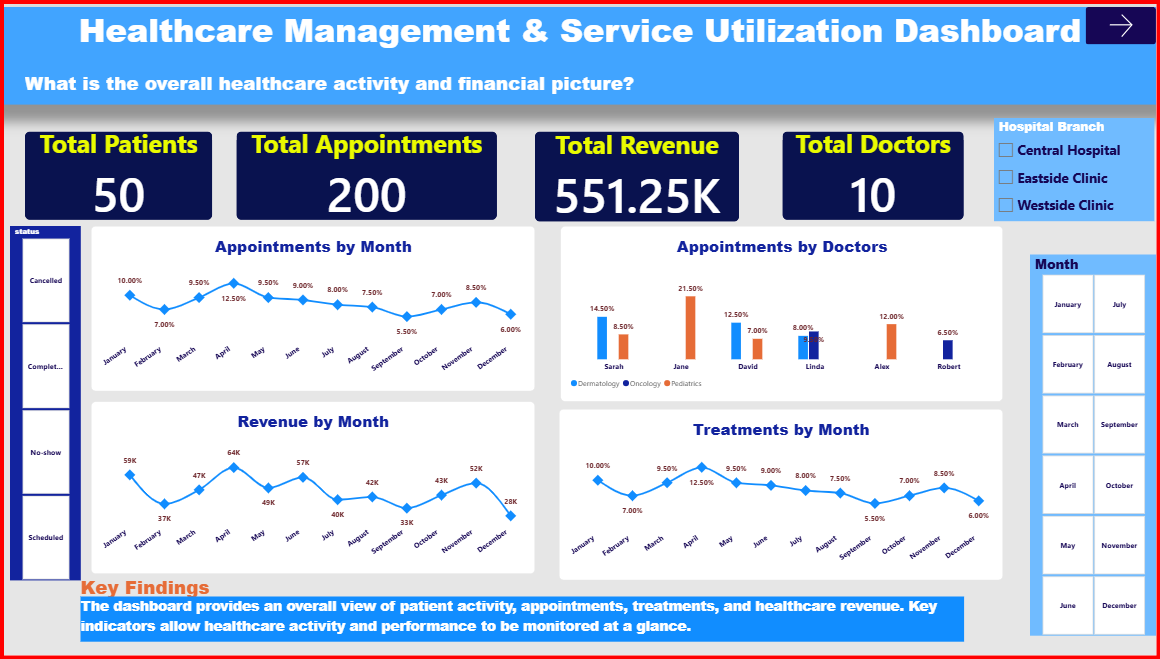

The dashboard page shown, as its layout file describes it:
{"tool":"powerbi","page":{"name":"EXECUTIVE OVERVIEW","canvas":[1920,1080],"ordinal":0},"visuals":[{"type":"textbox","title":"Healthcare Management & Service Utilization Dashboard","box":[0,0,1920,162.5],"z":0},{"type":"cardVisual","fields":{"Data":["Descriptive Analys.Total Patients"]},"box":[35.8,207.6,312.6,147.9],"z":1000},{"type":"cardVisual","fields":{"Data":["Descriptive Analys.Total Appointments"]},"box":[386.5,207.6,434.2,147.9],"z":2000},{"type":"cardVisual","fields":{"Data":["Descriptive Analys.Total Revenue"]},"box":[885,207.5,340,150],"z":3000},{"type":"cardVisual","fields":{"Data":["Descriptive Analys.Total Doctors"]},"box":[1297.5,207.5,302.5,147.5],"z":4000},{"type":"lineChart","title":" Appointments by Month","fields":{"Category":["DateTable.Month"],"Y":["Descriptive Analys.Total Appointments"]},"box":[144.1,365.1,740,275],"z":5000},{"type":"lineChart","title":"Treatments by Month","fields":{"Category":["DateTable.Month"],"Y":["Descriptive Analys.Total Treatments"]},"box":[925,670,740,285],"z":6000},{"type":"clusteredColumnChart","title":" Appointments by Doctors","fields":{"Category":["cleaned_doctors.first_name"],"Series":["cleaned_doctors.specialization"],"Y":["Divide(Descriptive Analys.Total Appointments, ScopedEval(Descriptive Analys.Total Appointments, []))"]},"box":[927.5,365,737.5,292.5],"z":7000},{"type":"lineChart","title":" Revenue by Month","fields":{"Category":["DateTable.Month"],"Y":["Descriptive Analys.Total Revenue"]},"box":[144.1,658.2,740,287.5],"z":8000},{"type":"slicer","fields":{"Values":["cleaned_doctors.hospital_branch"]},"box":[1651.1,186.1,267.2,171.8],"z":9000},{"type":"slicer","fields":{"Values":["DateTable.Month"]},"box":[1710,412.5,210,635],"z":10000},{"type":"shape","title":"Key Findings","box":[127.5,945,230,57.5],"z":11000},{"type":"textbox","title":"What is the overall healthcare activity and financial picture?","box":[35,105,1262.5,90],"z":12000},{"type":"actionButton","box":[1802.5,0,117.5,62.5],"z":13000},{"type":"slicer","fields":{"Values":["cleaned_appointments.status"]},"box":[9.6,365.1,117.7,590.9],"z":14000},{"type":"shape","title":"The dashboard provides an overall view of patient activity, appointments, treatments, and healthcare revenue. Key indicators allow healthcare activity and performance to be monitored at a glance.","box":[127.5,982.5,1472.5,75],"z":15000}]}

Visuals, with their boxes in screenshot pixels (x1, y1, x2, y2), scaled from the page's 1920x1080 canvas onto the 1160x659 screenshot:
"Healthcare Management & Service Utilization Dashboard" textbox: <bbox>0, 0, 1159, 99</bbox>
cardVisual - Descriptive Analys.Total Patients: <bbox>22, 127, 210, 217</bbox>
cardVisual - Descriptive Analys.Total Appointments: <bbox>234, 127, 496, 217</bbox>
cardVisual - Descriptive Analys.Total Revenue: <bbox>535, 127, 740, 218</bbox>
cardVisual - Descriptive Analys.Total Doctors: <bbox>784, 127, 967, 217</bbox>
" Appointments by Month" lineChart: <bbox>87, 223, 534, 391</bbox>
"Treatments by Month" lineChart: <bbox>559, 409, 1006, 583</bbox>
" Appointments by Doctors" clusteredColumnChart: <bbox>560, 223, 1006, 401</bbox>
" Revenue by Month" lineChart: <bbox>87, 402, 534, 577</bbox>
slicer - cleaned_doctors.hospital_branch: <bbox>998, 114, 1159, 218</bbox>
slicer - DateTable.Month: <bbox>1033, 252, 1159, 639</bbox>
"Key Findings" shape: <bbox>77, 577, 216, 612</bbox>
"What is the overall healthcare activity and financial picture?" textbox: <bbox>21, 64, 784, 119</bbox>
actionButton: <bbox>1089, 0, 1159, 38</bbox>
slicer - cleaned_appointments.status: <bbox>6, 223, 77, 583</bbox>
"The dashboard provides an overall view of patient activity, appointments, treatments, and healthcare revenue. Key indicators allow healthcare activity and performance to be monitored at a glance." shape: <bbox>77, 600, 967, 645</bbox>
